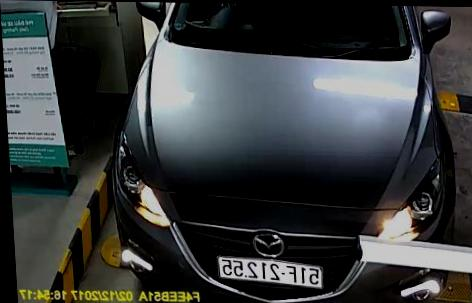License_Plate: (217, 257, 324, 285)
